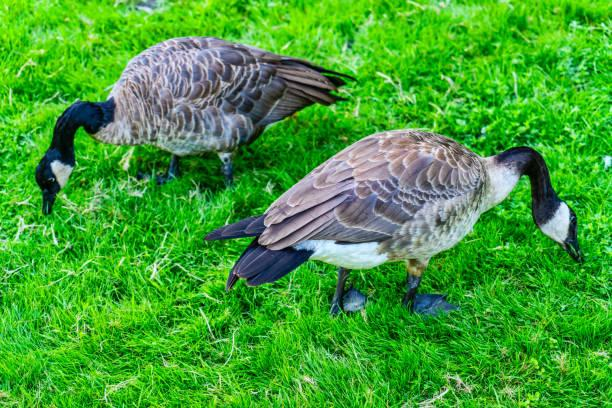Canadian-Goose: (208, 127, 588, 320), (34, 36, 344, 211)
